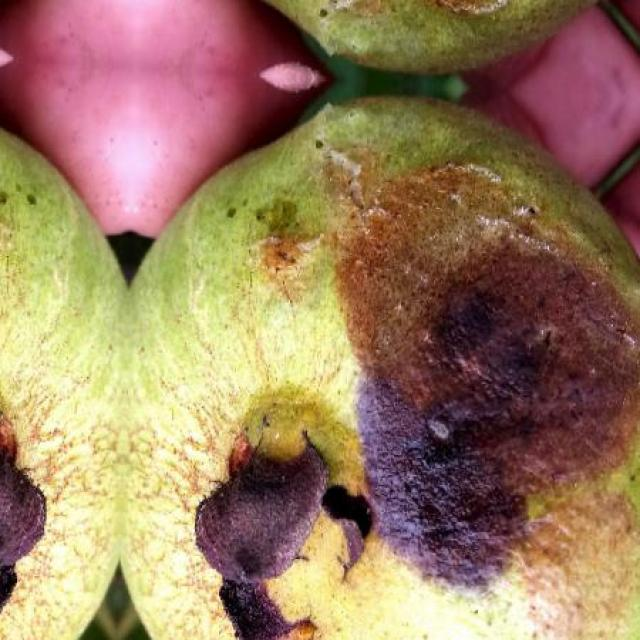Styler and Root: (0, 99, 640, 640)
